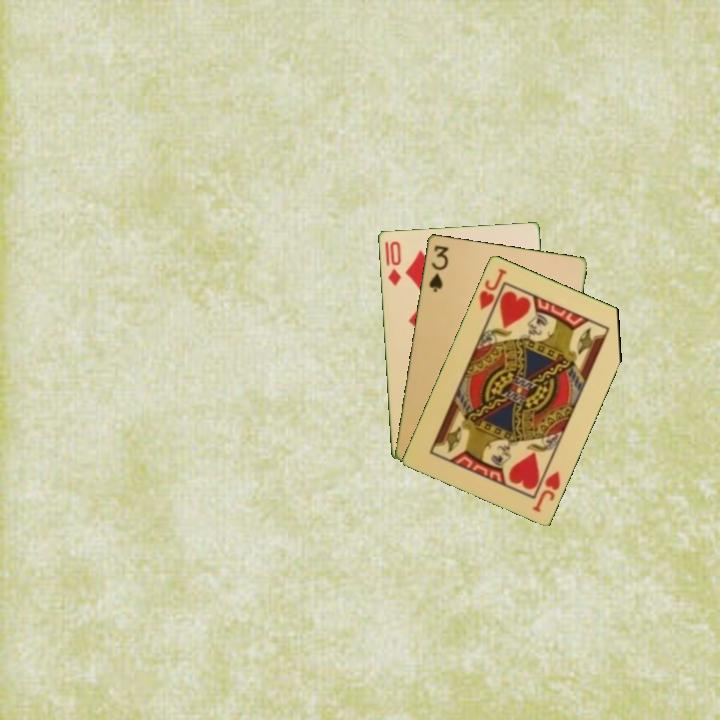10d: (384, 237, 404, 288)
3s: (425, 241, 451, 294)
Jh: (528, 467, 563, 515), (475, 264, 509, 313)
